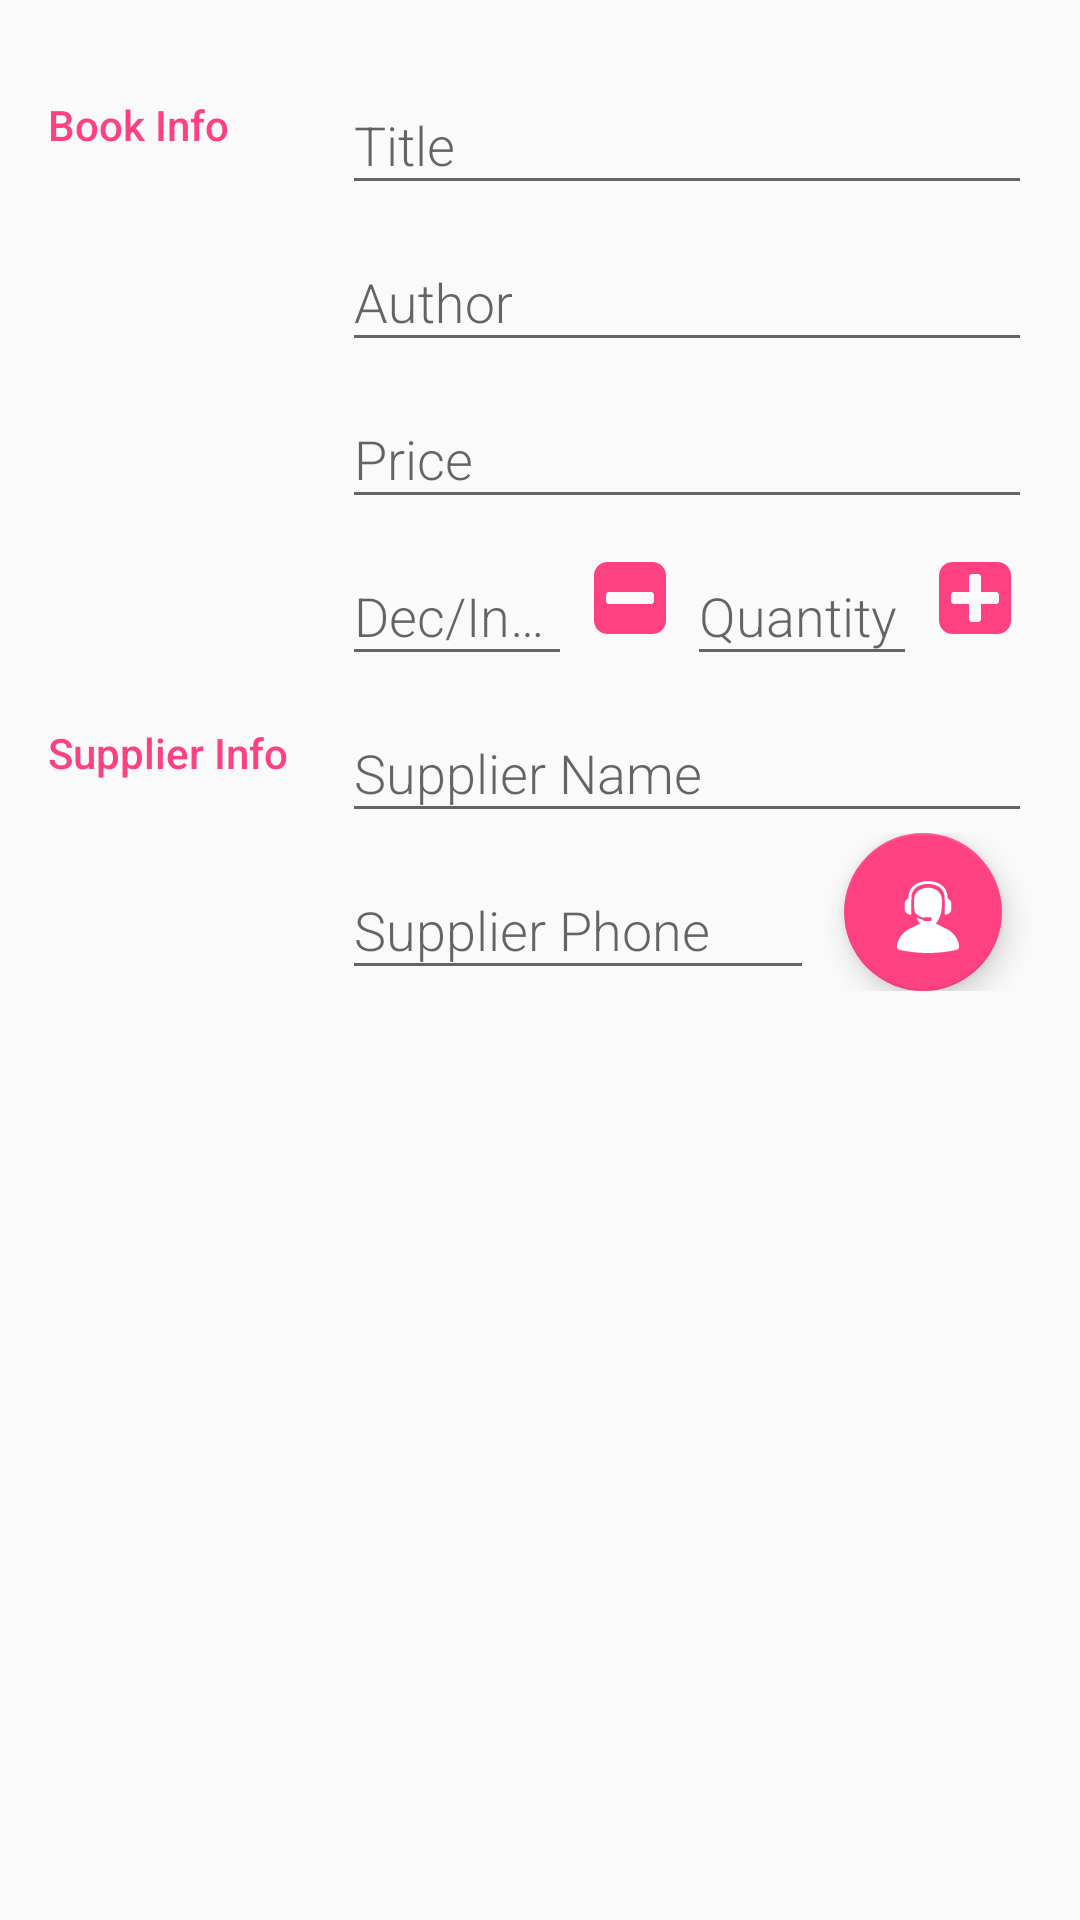

Named icons in this screenshot (1080x1920) and their bounding boxes, box=[x1, y1, x2, y2]:
customer service: box=[844, 833, 1002, 991]
minus sign: box=[594, 562, 666, 634]
plus symbol: box=[939, 562, 1011, 634]
